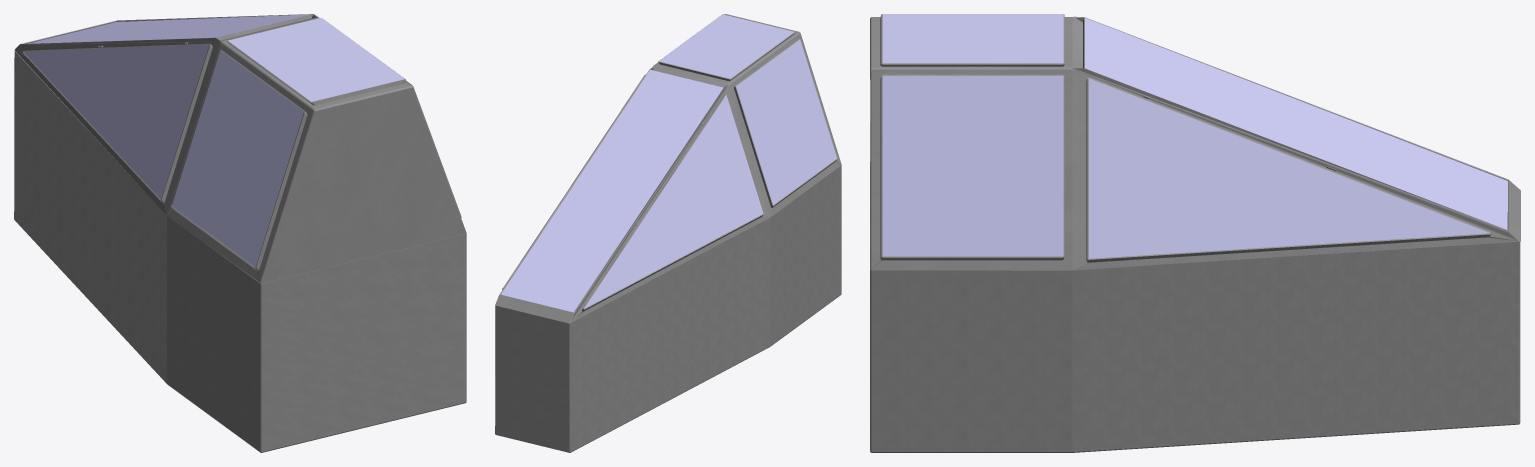
File: cockpit.fbx
The picture shows the model from 3 angles, left to right: view 1: azimuth 30°, elevation 25°; view 2: azimuth 150°, elevation 25°; view 3: azimuth 270°, elevation 25°; orthographic projection. The views are drawn at different scales.
Parts seen in each view (by area): view 1: Body, WindowsForward, Frame; view 2: WindowsForward, Body, Frame; view 3: Body, WindowsForward, Frame.
Part boxes in pixels (x1,y1,x2,y2): Body: (14, 51, 466, 452); WindowsForward: (24, 14, 404, 266); Frame: (14, 14, 466, 283); WindowsForward: (501, 14, 836, 312); Body: (495, 165, 841, 452); Frame: (495, 14, 841, 323); Body: (870, 162, 1520, 452); WindowsForward: (882, 14, 1507, 258); Frame: (870, 14, 1520, 270).
Size of the model in its own units: 1.92 by 2.97 by 4.85.
12 materials, 9 textured.
